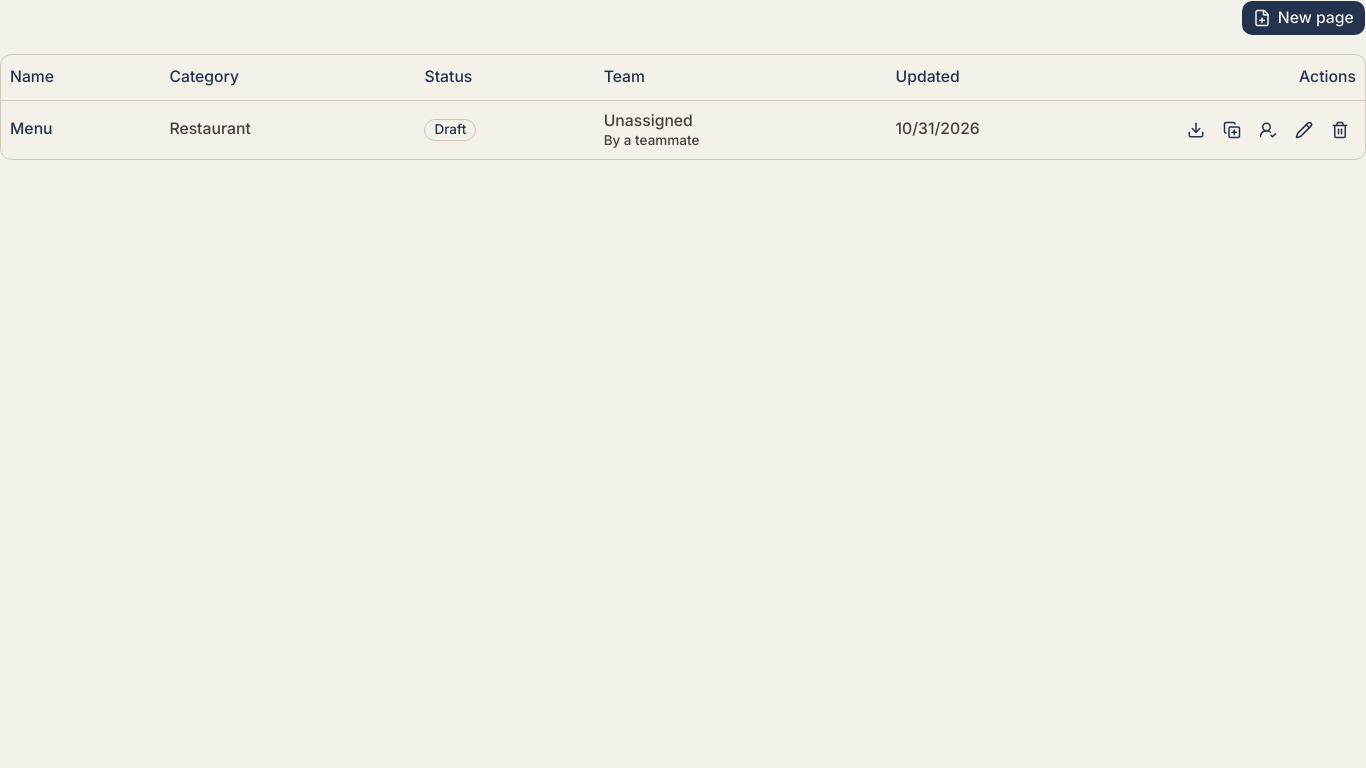
Test: PageList › asks for confirmation before deleting, then removes the row
Click the button named "Delete Menu". click: (1340, 130)
box: 1324,114 -> 1356,146
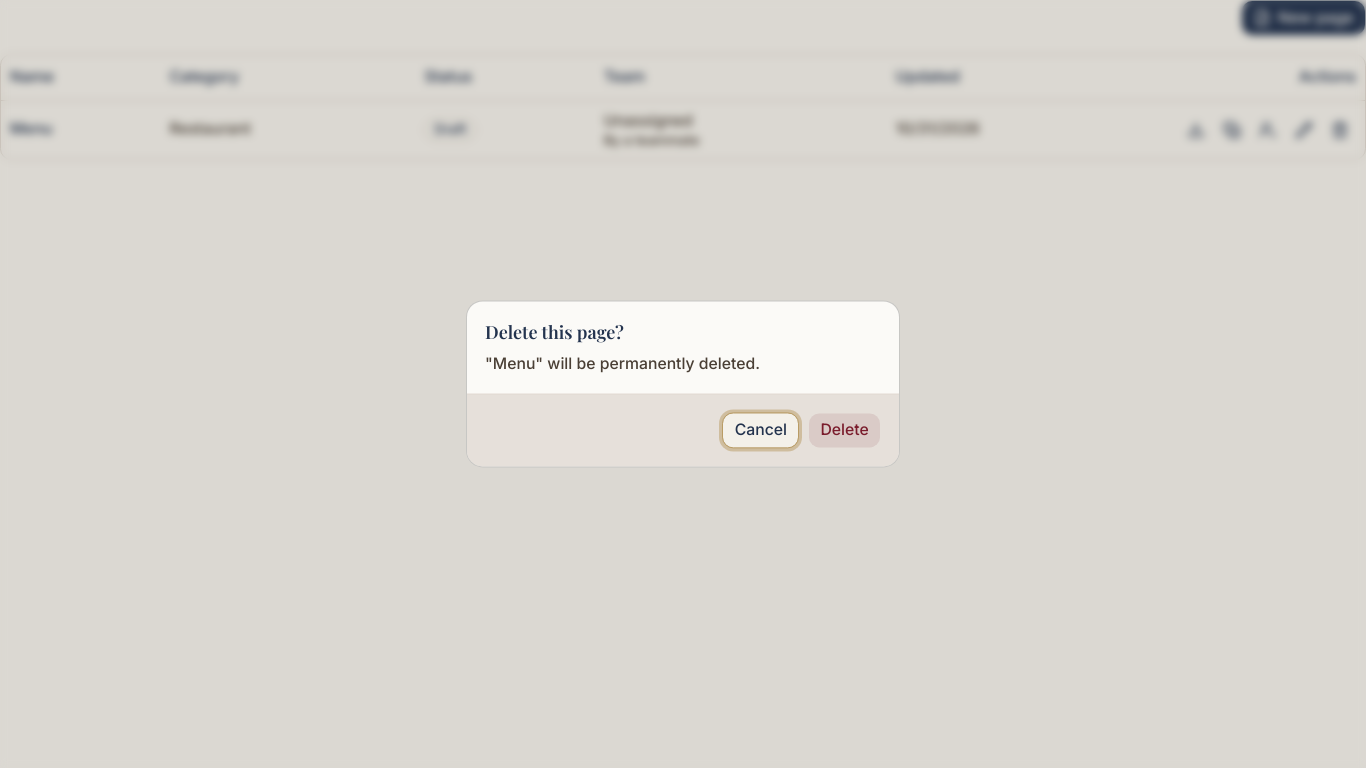
Now the heading "Delete this page?" is shown, box 485,319 -> 624,346
Click the button "Delete". click: (845, 431)
box: 808,413 -> 881,449
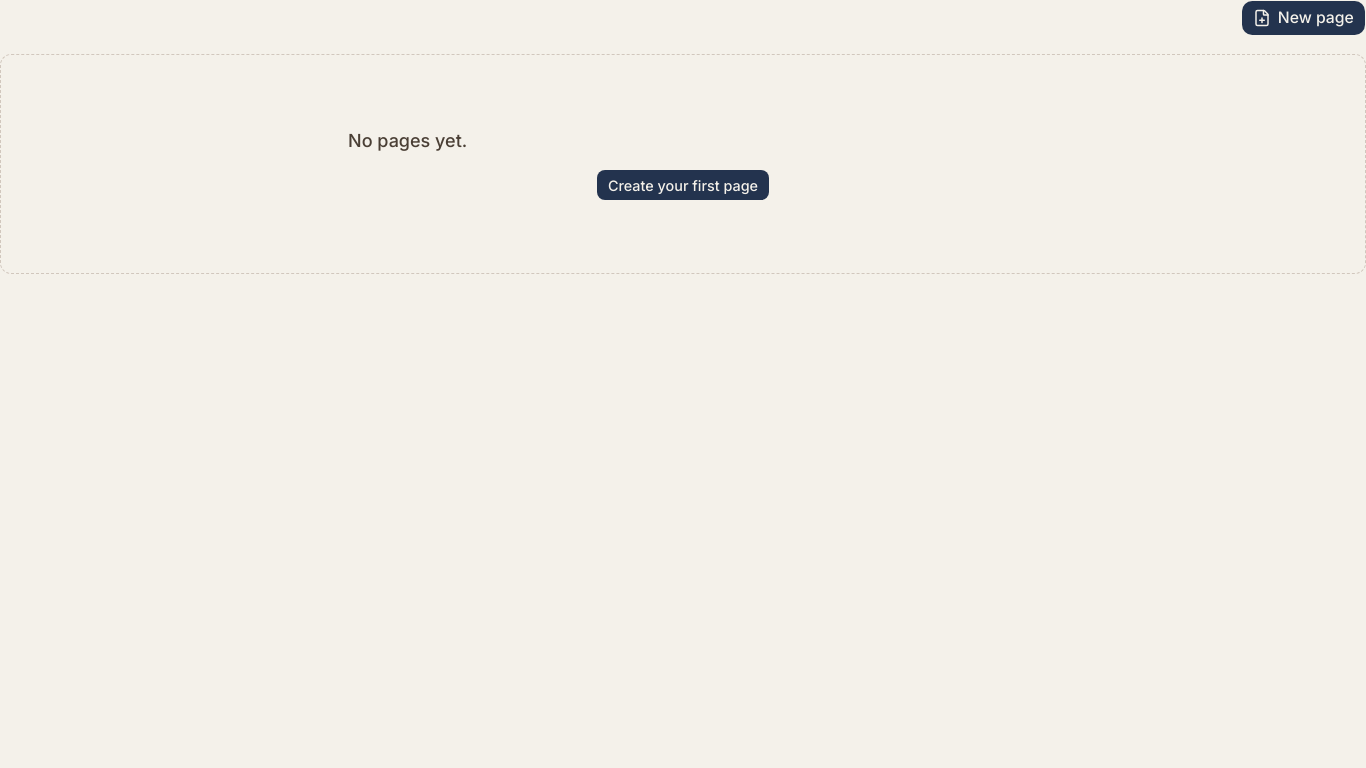
Now the link "Menu" is gone
